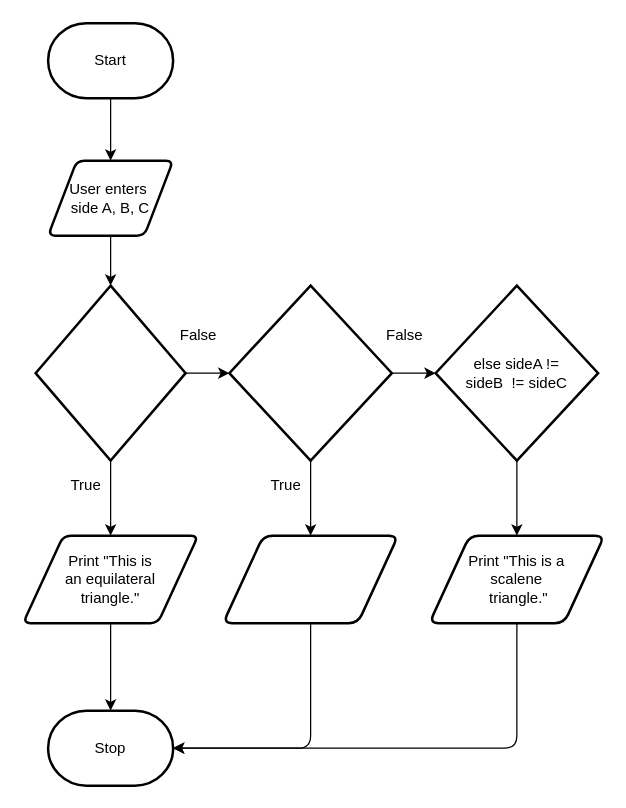
The diagram is 626 pixels wide and 808 high, and some of its shapes have lost their labels. Each missing label, with the box of its shape:
else if (sideA == sideB || sideB == sideC || sideA == sideC): (228, 284, 392, 461)
if sideA == sideB && sideB == sideC: (34, 284, 186, 461)
Print "This is an isosceles triangle.": (221, 534, 399, 624)
